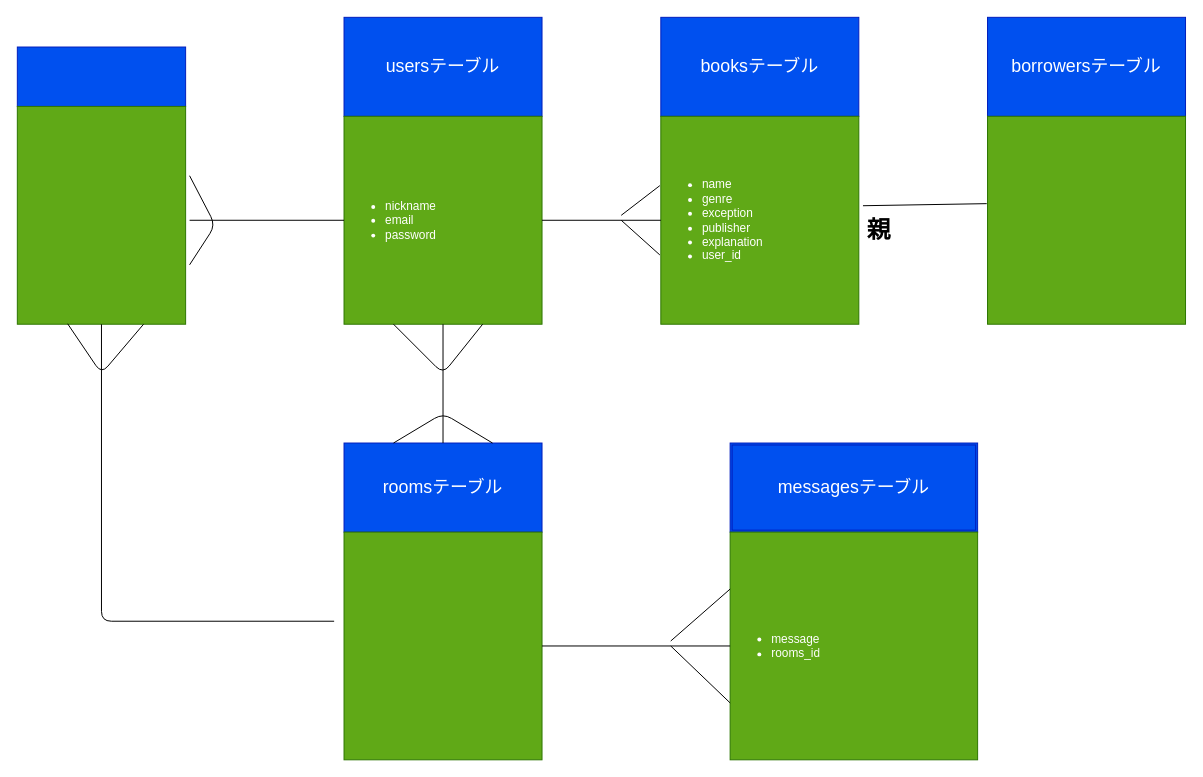
This 1203x777 diagram has some shape labels left out. Each missing label, with the box of its shape:
borrower deadline books_id: (987, 115, 1186, 324)
name: (343, 531, 542, 760)
users_id rooms_id: (16, 105, 186, 324)
users_roomsテーブル: (16, 46, 186, 106)
